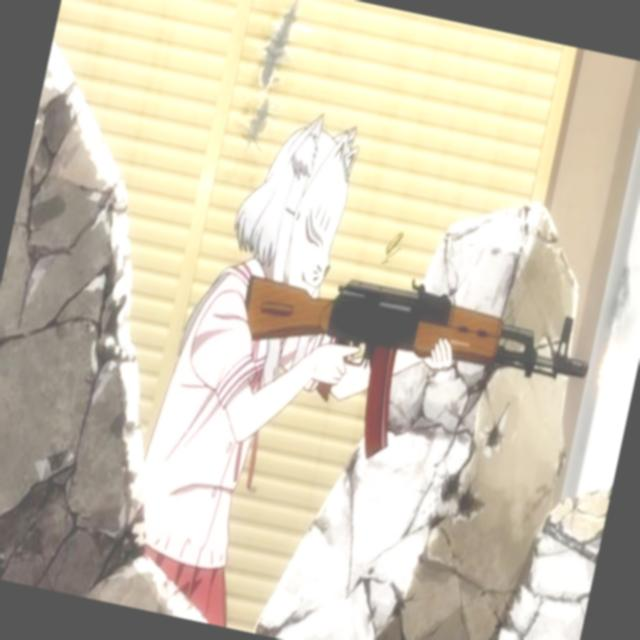ak: (218, 246, 601, 499)
